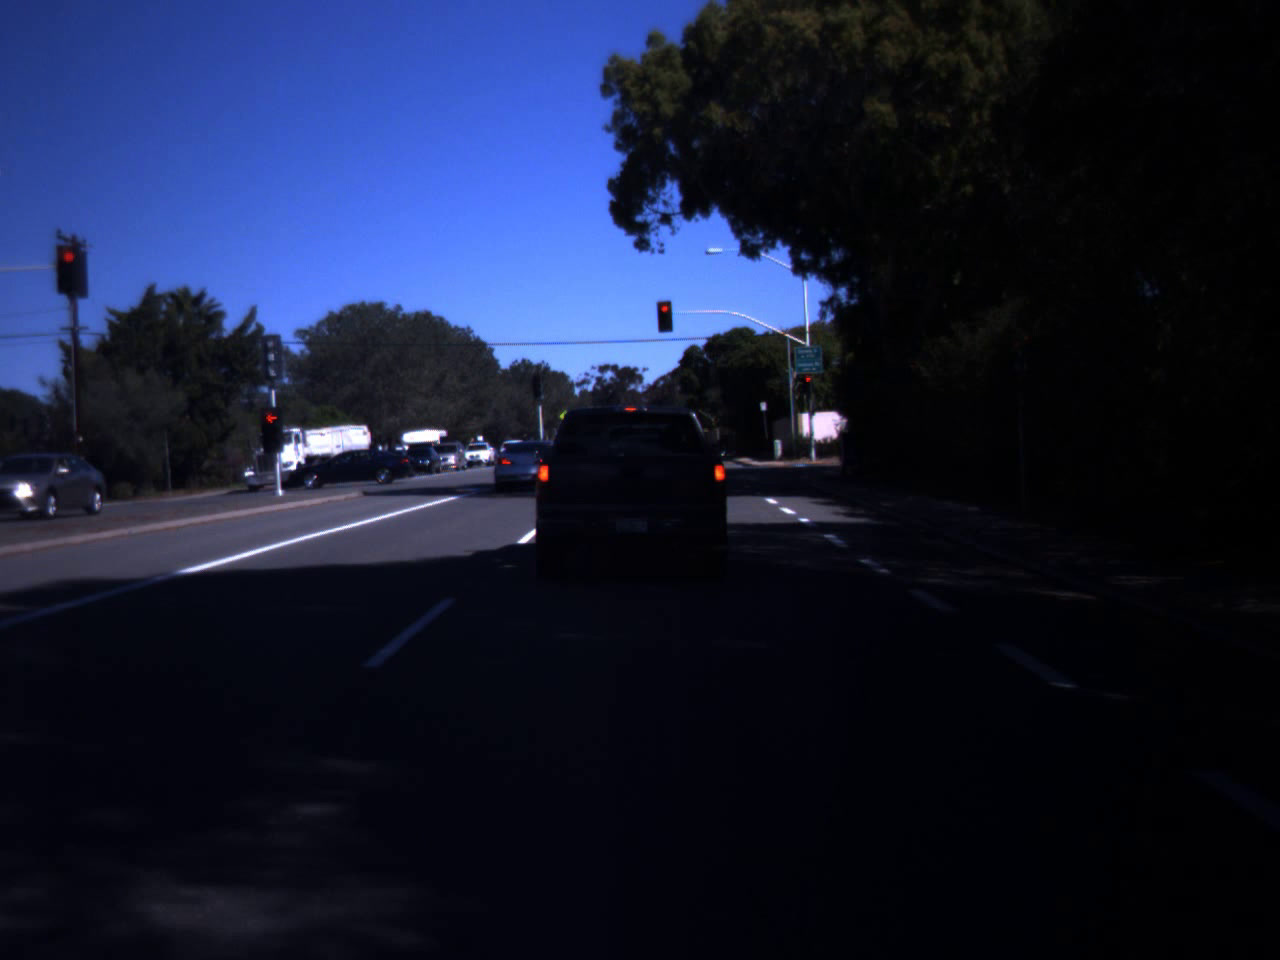stop: (55, 249, 82, 280), (260, 413, 284, 440), (656, 303, 674, 330), (802, 375, 814, 393)
